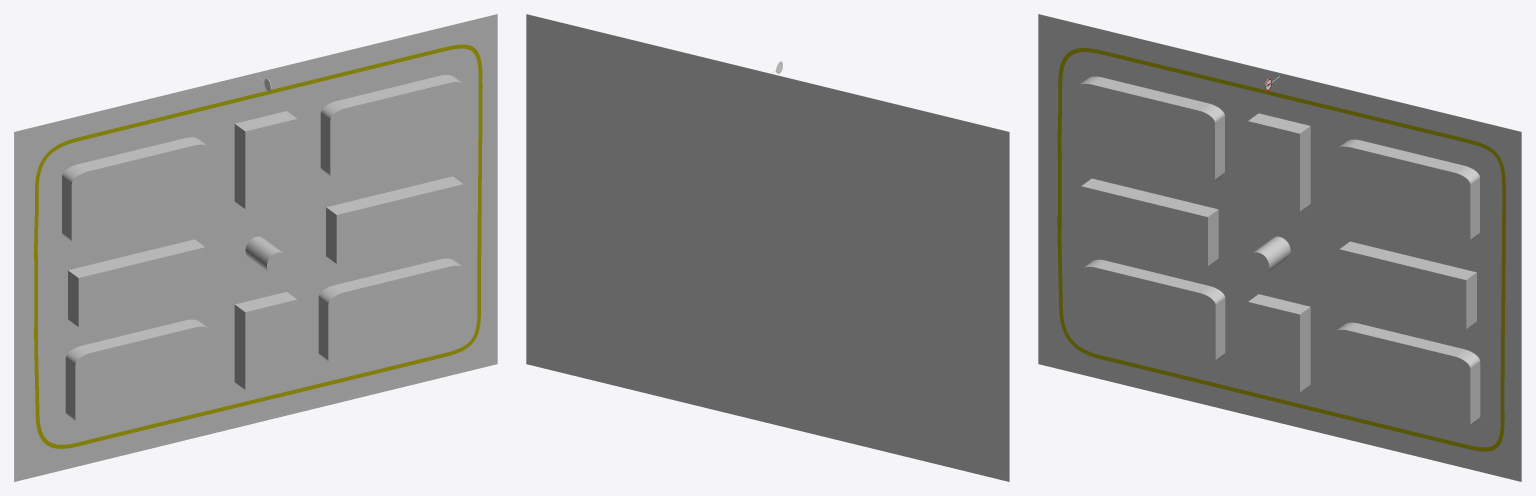
File: novo_teste.obj
3 views of the same model, side by side, from view 1: azimuth 30°, elevation 25°; view 2: azimuth 150°, elevation 25°; view 3: azimuth 330°, elevation 25° (orthographic).
Parts seen in each view (by area): view 1: Placa_em_frente_asfalto, Placa_em_frente_, Placa_em_frente_branco, Placa_em_frente_amarelo; view 2: Placa_em_frente_asfalto; view 3: Placa_em_frente_asfalto, Placa_em_frente_, Placa_em_frente_branco, Placa_em_frente_amarelo.
Boxes of the visible parts, left/top/right/bottom form: Placa_em_frente_asfalto: left=14, top=14, right=497, bottom=481; Placa_em_frente_: left=62, top=75, right=465, bottom=424; Placa_em_frente_branco: left=14, top=21, right=497, bottom=472; Placa_em_frente_amarelo: left=34, top=44, right=482, bottom=448; Placa_em_frente_asfalto: left=526, top=14, right=1009, bottom=481; Placa_em_frente_asfalto: left=1038, top=14, right=1521, bottom=481; Placa_em_frente_: left=1076, top=76, right=1480, bottom=429; Placa_em_frente_branco: left=1038, top=24, right=1520, bottom=474; Placa_em_frente_amarelo: left=1057, top=48, right=1505, bottom=451.
Bounding box in the file's own units: 13 × 9.06 × 1.01.
